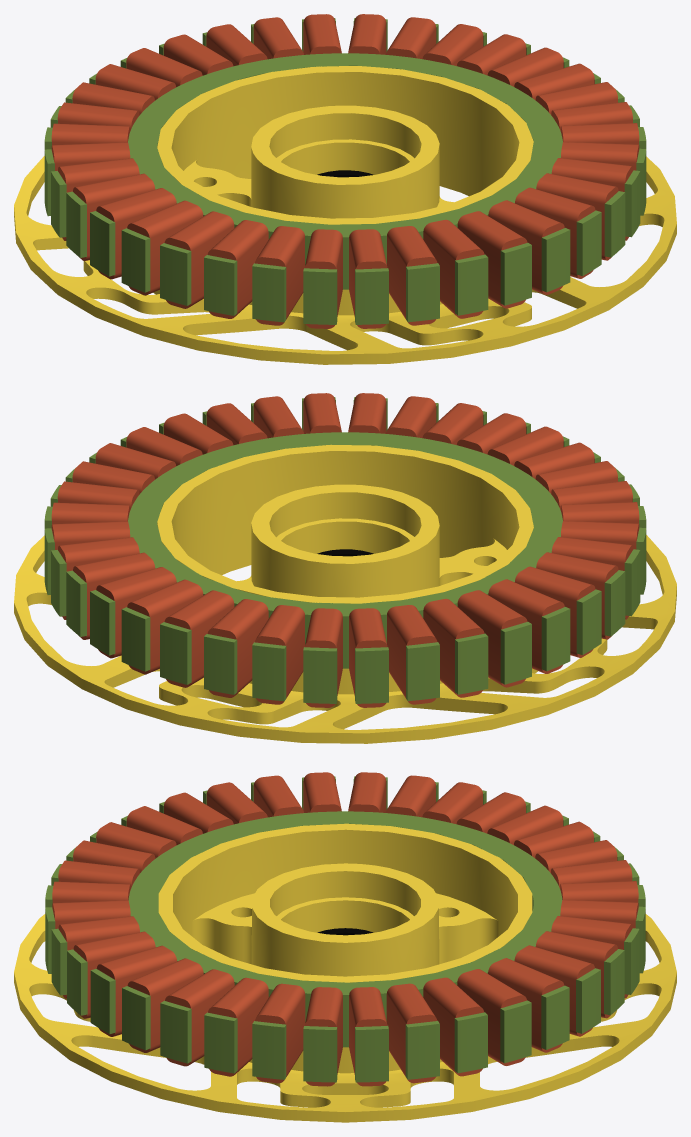
The model's file is stator.glb.
The picture shows the model from 3 angles, top to bottom: view 1: azimuth 30°, elevation 25°; view 2: azimuth 150°, elevation 25°; view 3: azimuth 270°, elevation 25°; orthographic projection.
Parts seen in each view (by area): view 1: stator; view 2: stator; view 3: stator.
Part boxes in pixels (<box>): stator: <box>14,14,676,364</box>; stator: <box>14,393,676,743</box>; stator: <box>14,772,676,1122</box>.
Bounding box in the file's own units: 0.0916 × 0.0197 × 0.0916.
